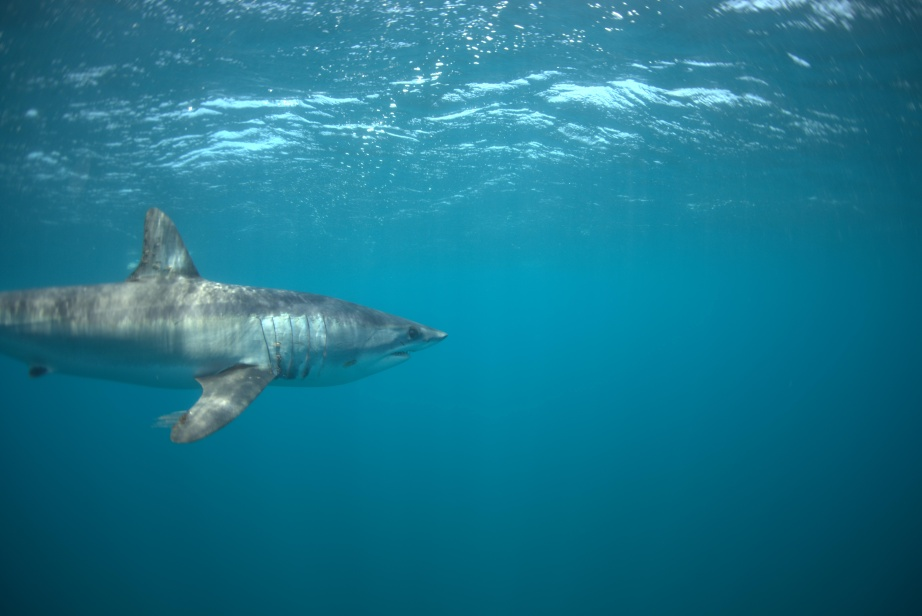Mako: (1, 186, 472, 454)
